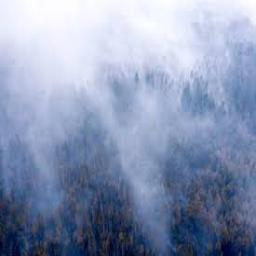Heavy smoke: (0, 0, 251, 242)
